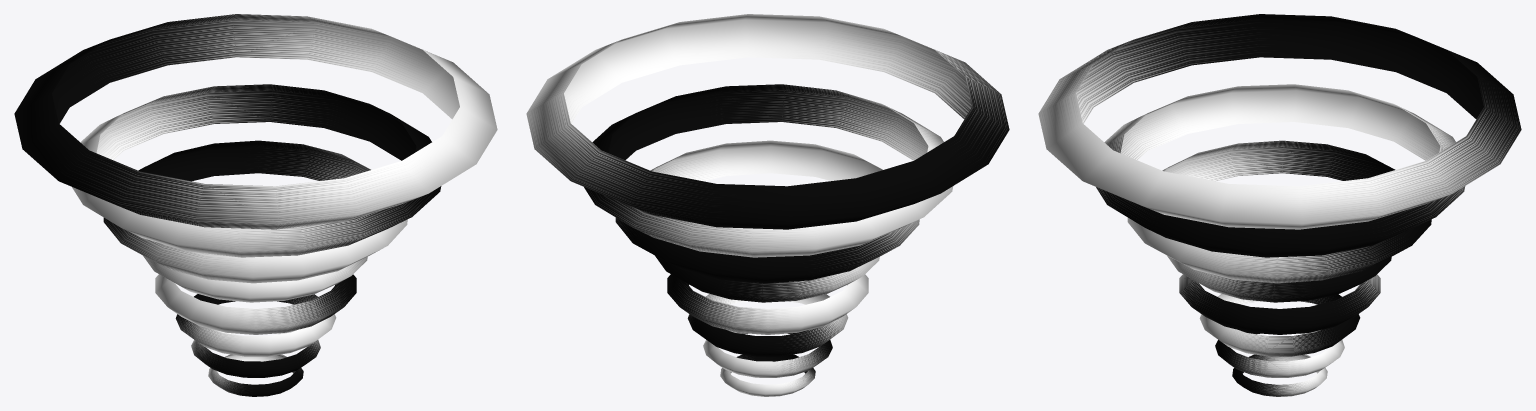
File: Wind_FBX 1.fbx
3 renders of one model, left to right at view 1: azimuth 30°, elevation 25°; view 2: azimuth 150°, elevation 25°; view 3: azimuth 270°, elevation 25°, orthographic.
Visible parts, largest first — view 1: wind_FBX; view 2: wind_FBX; view 3: wind_FBX.
Part boxes in pixels (left/top/right/bottom): wind_FBX: left=14, top=14, right=497, bottom=396; wind_FBX: left=526, top=14, right=1009, bottom=396; wind_FBX: left=1038, top=14, right=1521, bottom=396.
Bounding box in the file's own units: 2836 × 1814 × 2841.
